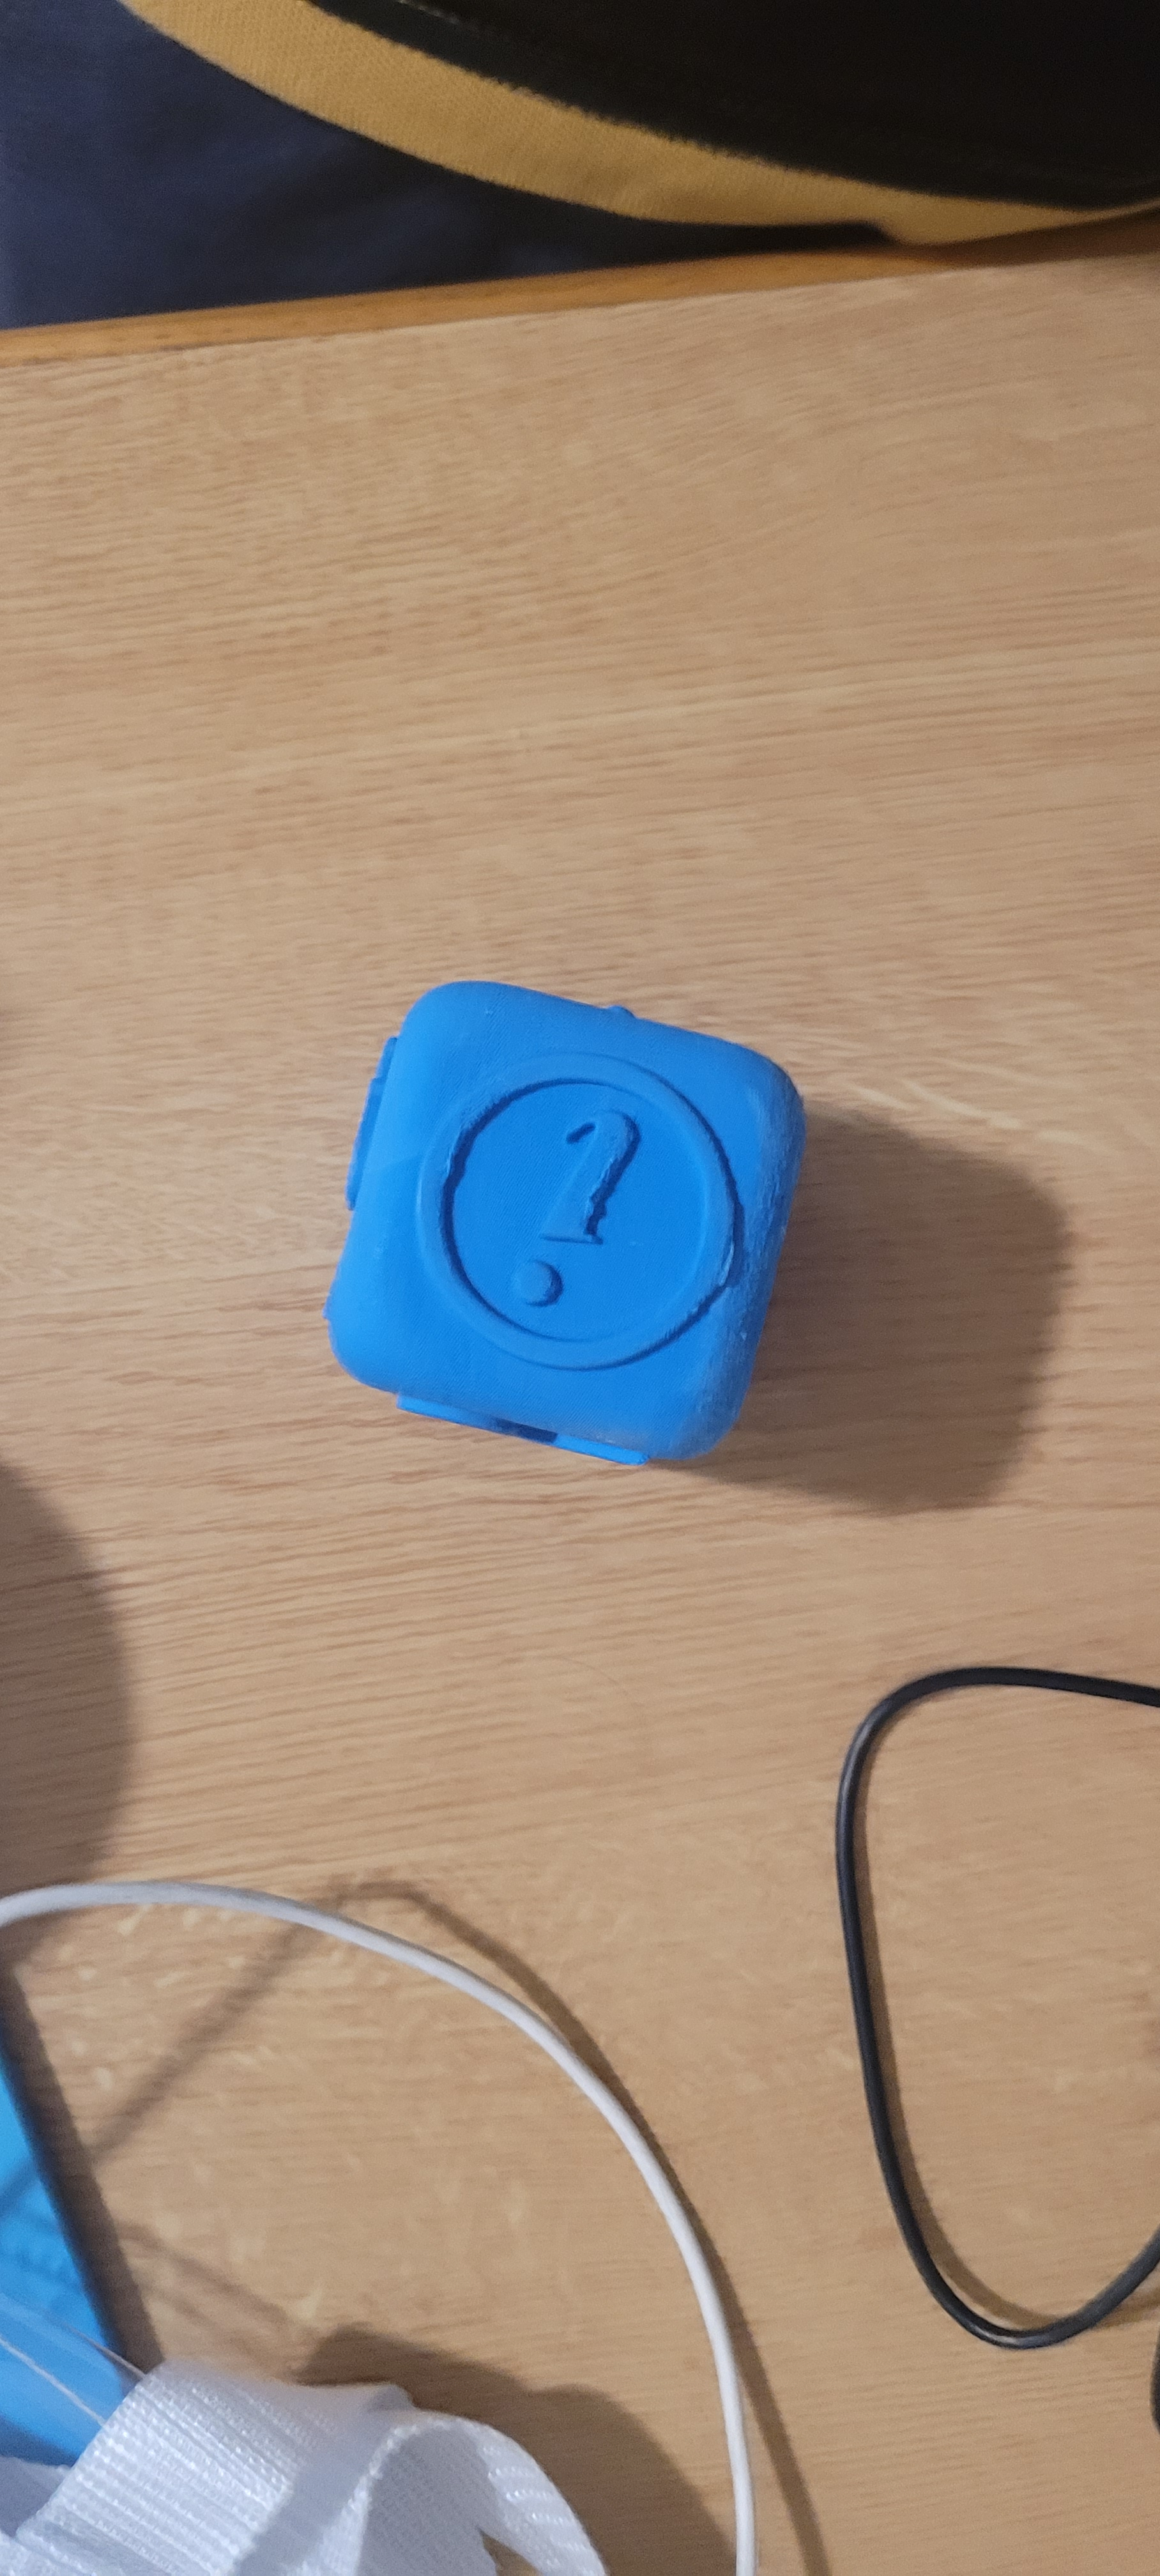Info: (403, 987, 757, 1377)
